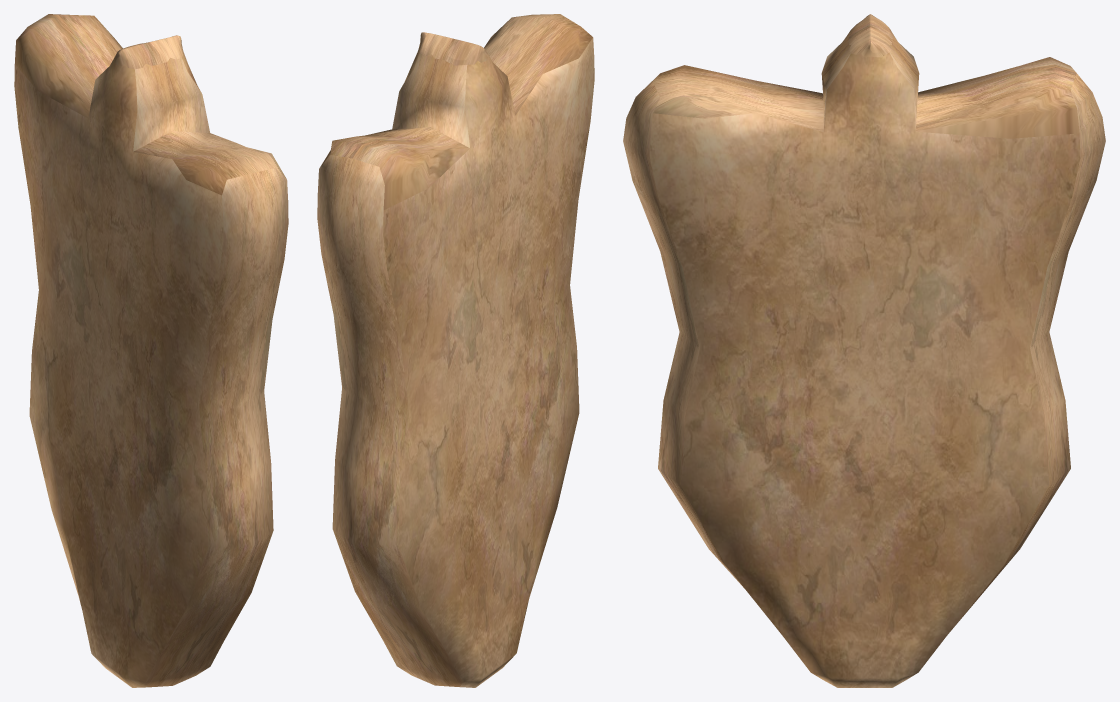
The model's file is Armor.fbx.
3 views of the same model, side by side, from view 1: azimuth 30°, elevation 25°; view 2: azimuth 150°, elevation 25°; view 3: azimuth 270°, elevation 25° (orthographic). The views are drawn at different scales.
Parts seen in each view (by area): view 1: pCube2; view 2: pCube2; view 3: pCube2.
Boxes of the visible parts, x1,y1,x2,y2 form: pCube2: (14, 14, 288, 687); pCube2: (317, 14, 594, 687); pCube2: (623, 14, 1105, 687).
Size of the model in its own units: 0.4924 by 3.42 by 2.3.
Materials: 1 (1 with a texture image).
